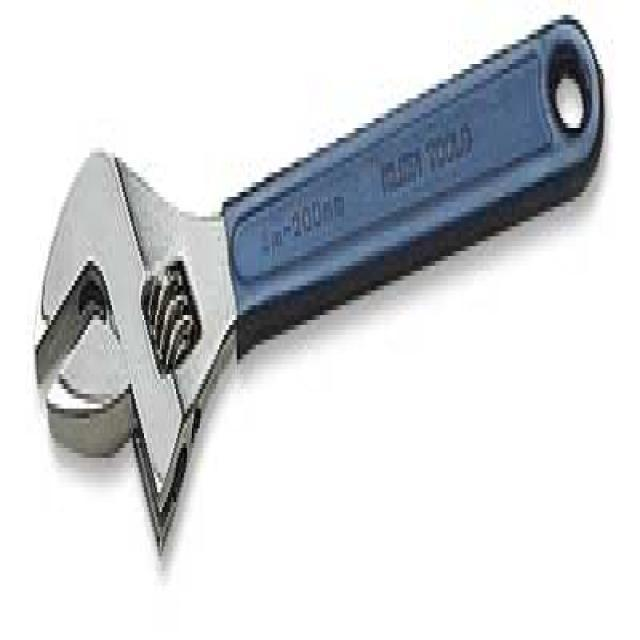wrench: (31, 9, 606, 575)
